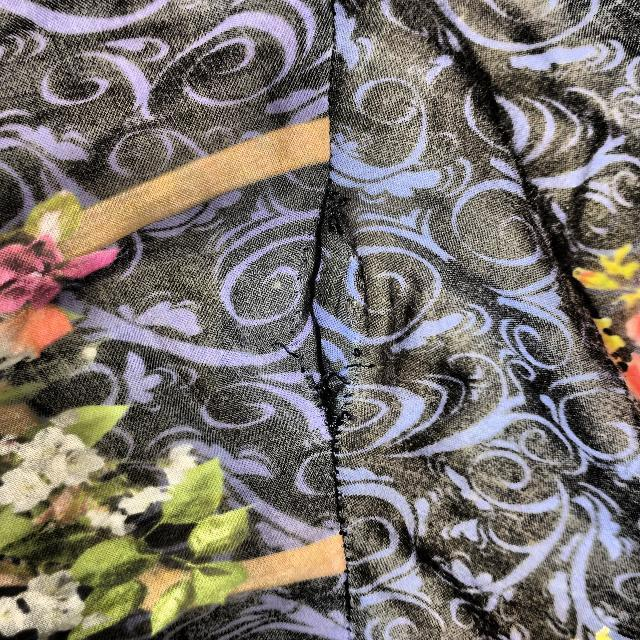cut: (257, 151, 417, 456)
